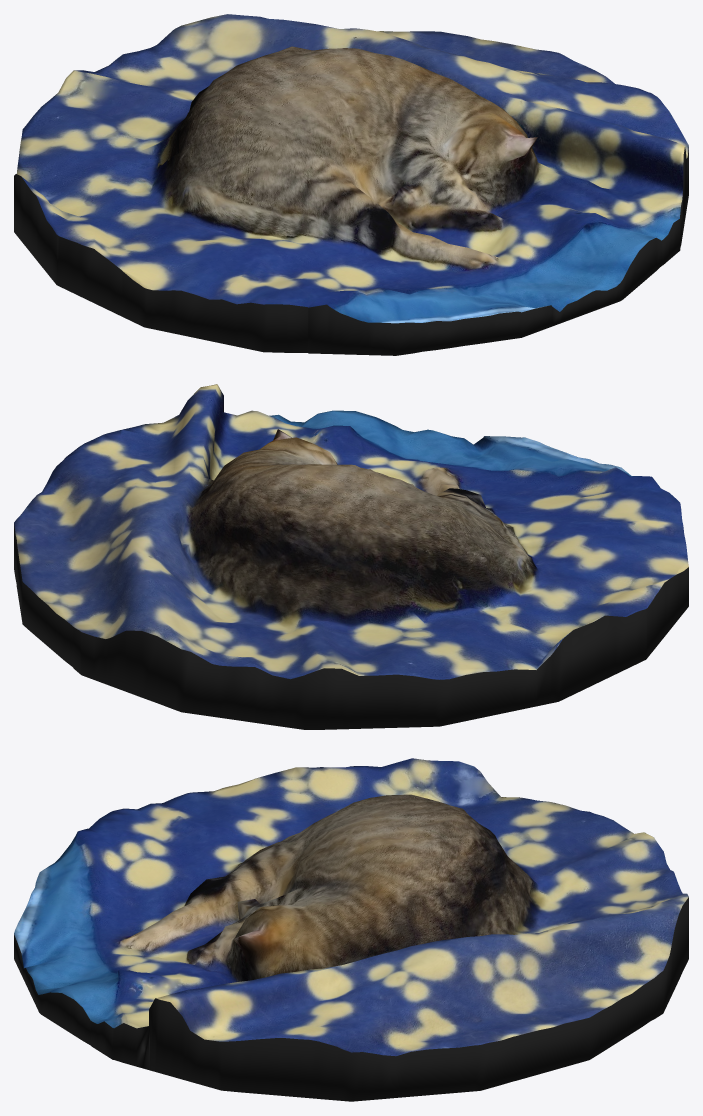
The model's file is Lilly.glb.
The picture shows the model from 3 angles, top to bottom: view 1: azimuth 30°, elevation 25°; view 2: azimuth 150°, elevation 25°; view 3: azimuth 270°, elevation 25°; orthographic projection.
Visible parts, largest first — view 1: geo1; view 2: geo1; view 3: geo1.
Boxes of the visible parts, x1,y1,x2,y2 form: geo1: [14, 14, 688, 355]; geo1: [14, 384, 688, 729]; geo1: [14, 758, 688, 1101].
Bounding box in the file's own units: 0.7 × 0.1463 × 0.7.
Materials: 2 (1 with a texture image).
